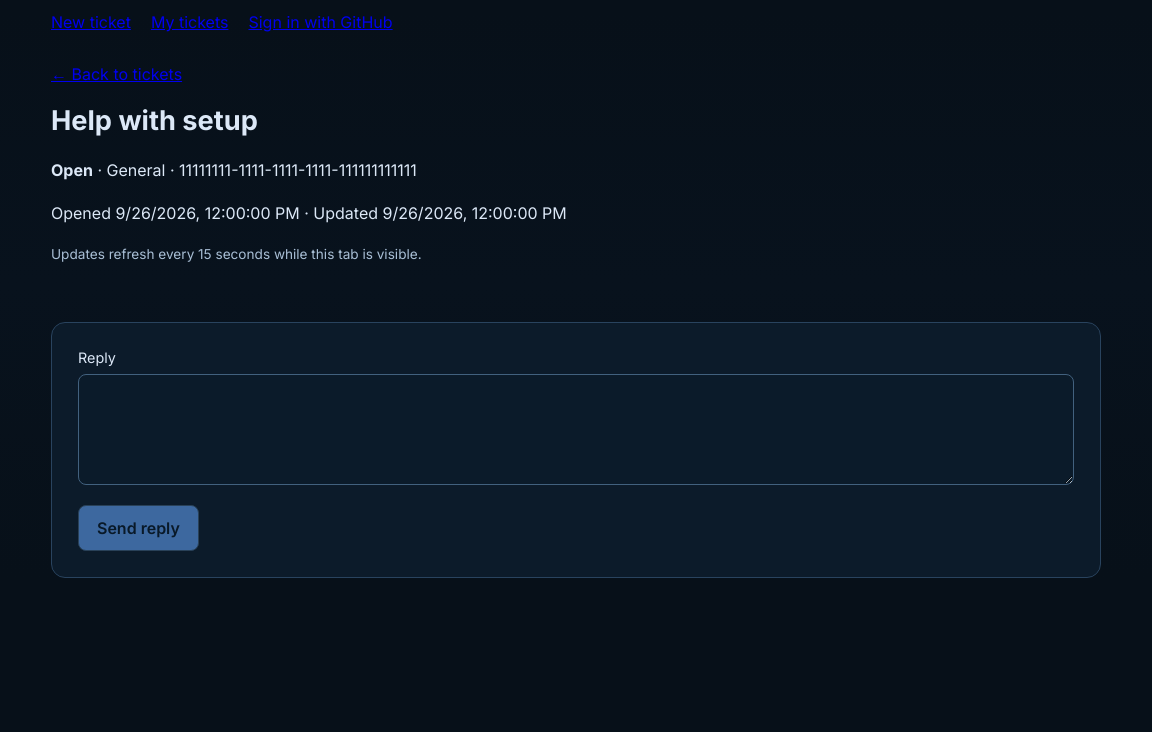
Test: conflicting reply preserves the customer draft and hides staff controls
Type "Keep this draft" into the text box labelled "Reply".
click(576, 430); type("Keep this draft")  # box [78, 374, 1074, 486]
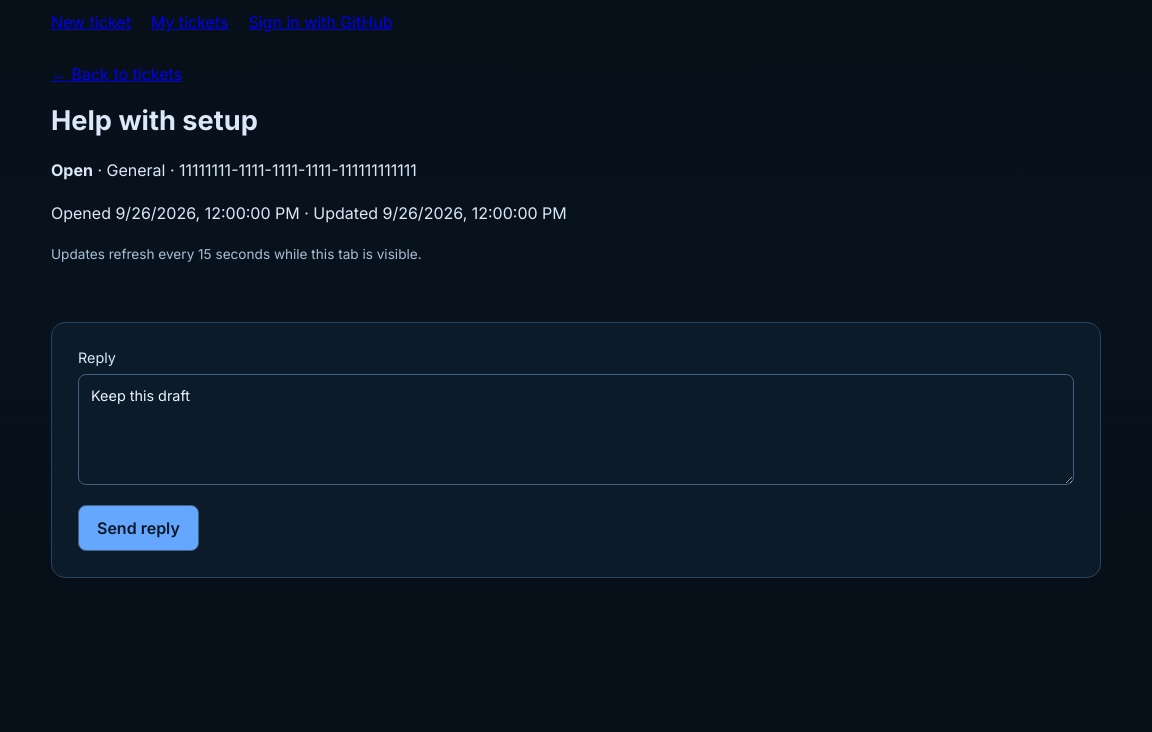
Click the button "Send reply".
click(138, 528)  # box [78, 506, 199, 552]
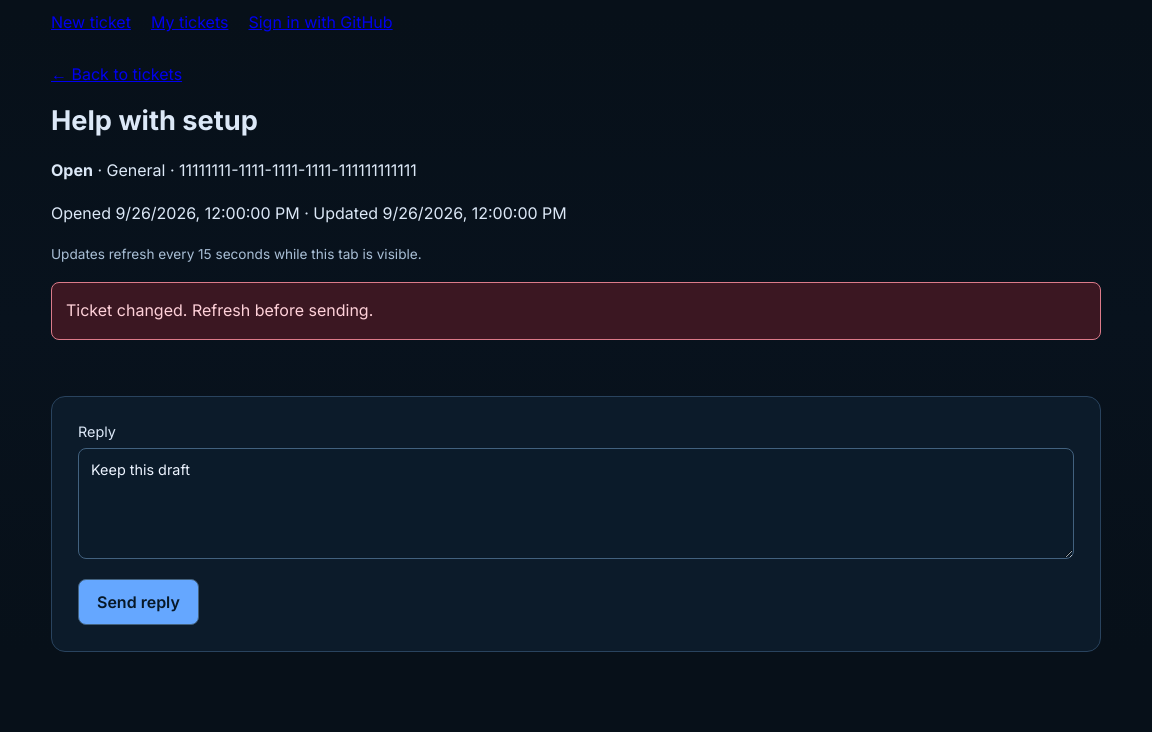
Expected: the message "Ticket changed. Refresh before sending." is shown, [51, 282, 1101, 340]
